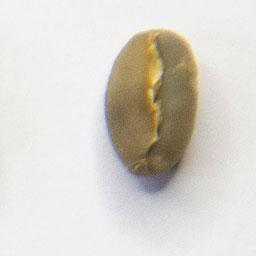peaberry: (100, 23, 204, 182)
